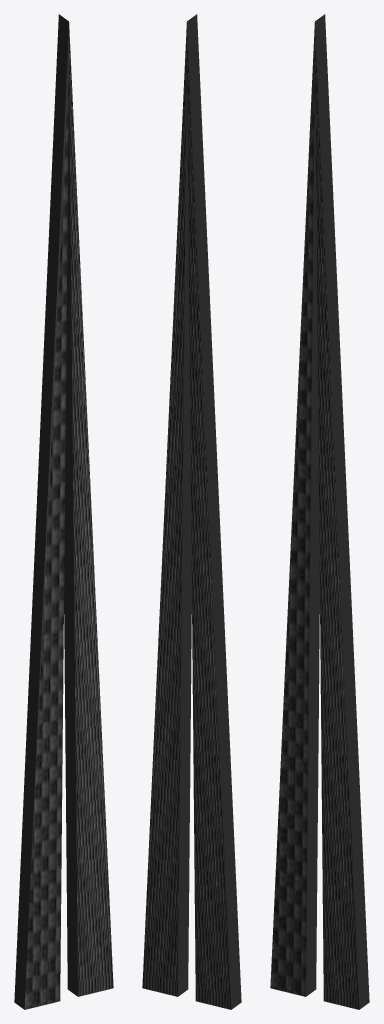
Rendered from stand.obj.
3 renders of one model, left to right at view 1: azimuth 30°, elevation 25°; view 2: azimuth 150°, elevation 25°; view 3: azimuth 330°, elevation 25°, orthographic.
Bounding box in the file's own units: 0.5 × 5.25 × 0.1.
1 material, 1 textured.
